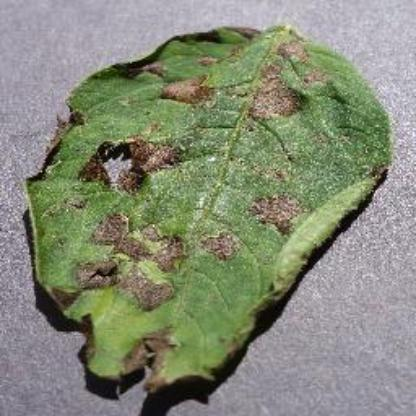Early-Blight: (21, 20, 402, 408)
